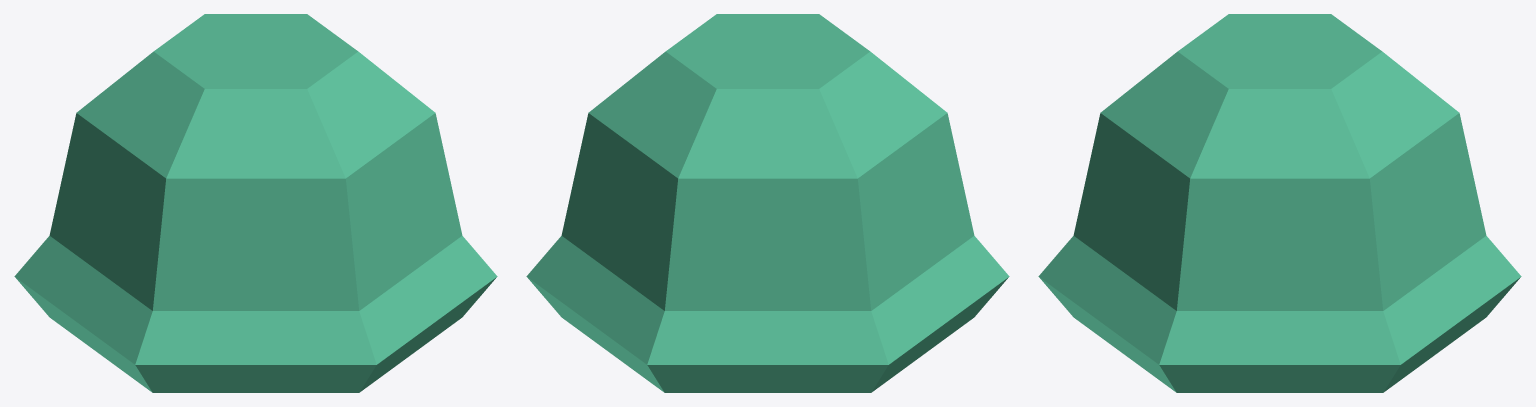
The model's file is iceCreamScoopMint.obj.
3 renders of one model, left to right at view 1: azimuth 30°, elevation 25°; view 2: azimuth 150°, elevation 25°; view 3: azimuth 270°, elevation 25°, orthographic.
Parts seen in each view (by area): view 1: iceCreamScoopMint; view 2: iceCreamScoopMint; view 3: iceCreamScoopMint.
Boxes of the visible parts, x1,y1,x2,y2 form: iceCreamScoopMint: (14,14,497,392); iceCreamScoopMint: (526,14,1009,392); iceCreamScoopMint: (1038,14,1521,392).
Bounding box in the file's own units: 0.2352 × 0.165 × 0.2716.
